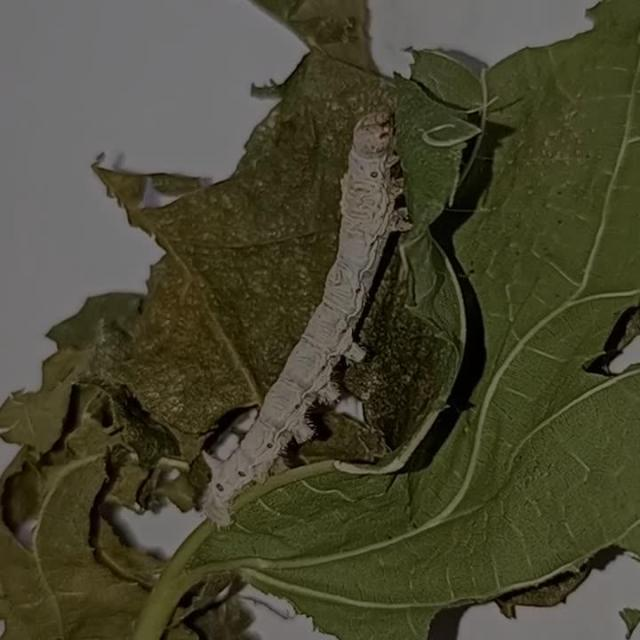Healthy: (197, 104, 419, 528)
